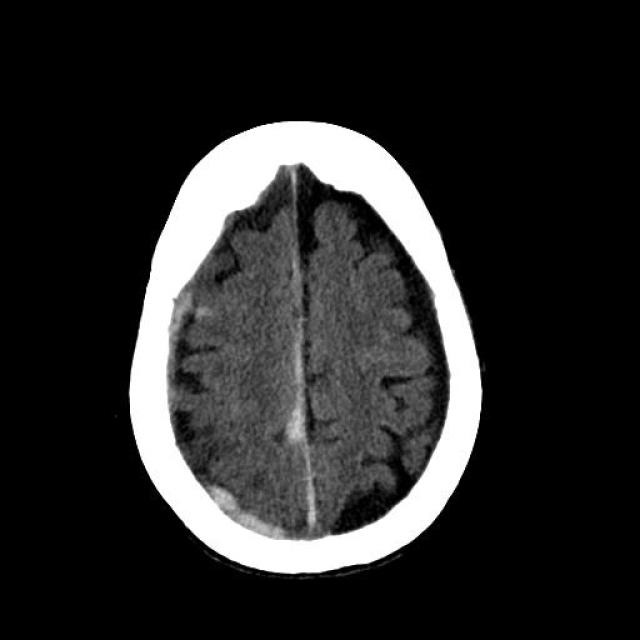Intraparenchymal: (194, 291, 218, 341)
Subdural: (180, 468, 330, 558), (269, 320, 331, 449)
